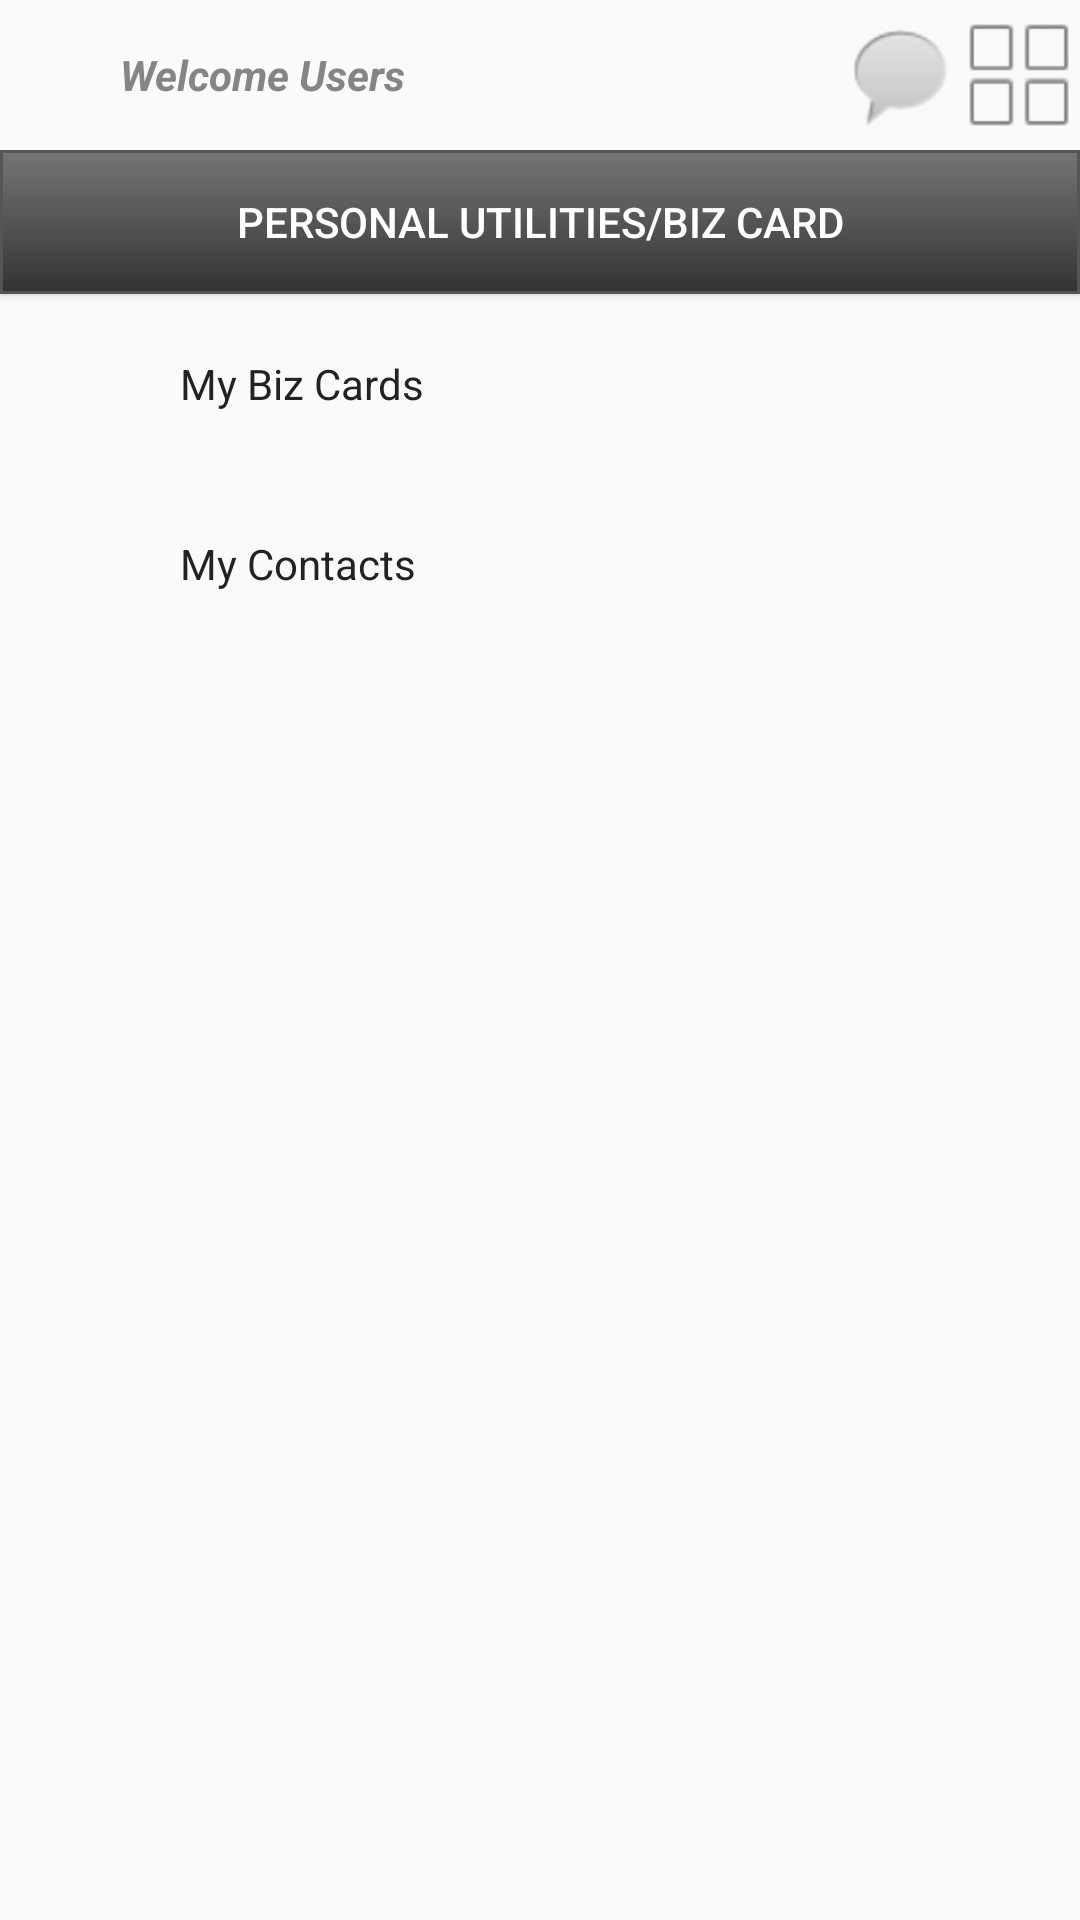

Point at icon controls on the screen. Image size 1080×1920, points as [x,y].
menu: [1019,75]
sym action chat: [899,77]
